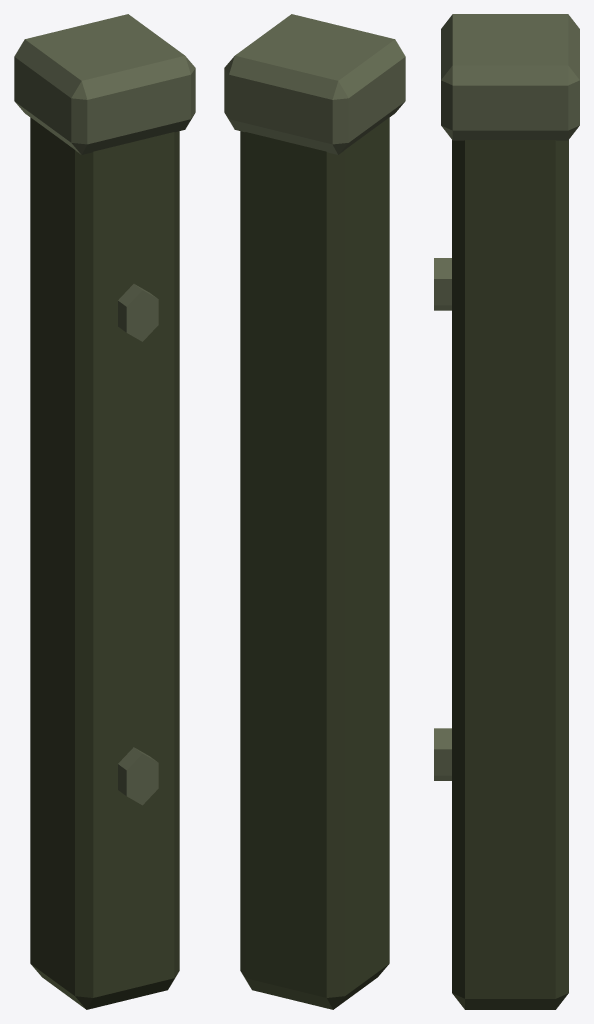
The model's file is fencePosts.obj.
3 views of the same model, side by side, from view 1: azimuth 30°, elevation 25°; view 2: azimuth 150°, elevation 25°; view 3: azimuth 270°, elevation 25° (orthographic).
Visible parts, largest first — view 1: fencePosts; view 2: fencePosts; view 3: fencePosts.
Boxes of the visible parts, x1,y1,x2,y2 form: fencePosts: (14, 14, 195, 1009); fencePosts: (224, 14, 405, 1009); fencePosts: (434, 14, 579, 1009).
Bounding box in the file's own units: 0.16 × 1.15 × 0.16.
Materials: 1 (1 with a texture image).
